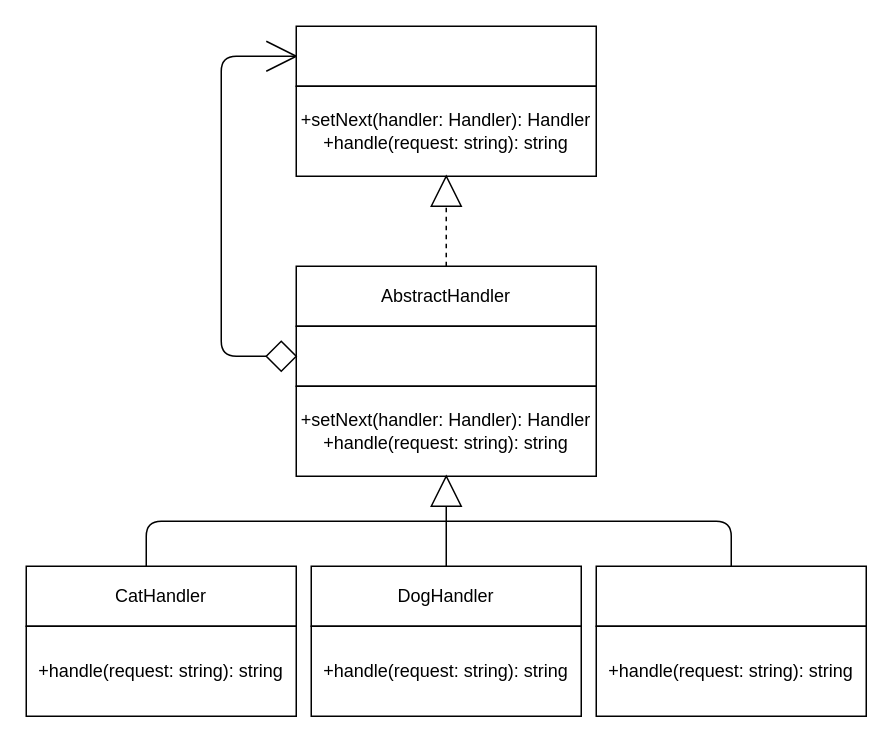
This 893x743 diagram has some shape labels left out. Each missing label, with the centre of its shape:
-nextHandler: Handler: the point at 445,355
<interface> Handler: the point at 445,55
HamsterHandler: the point at 730,595
